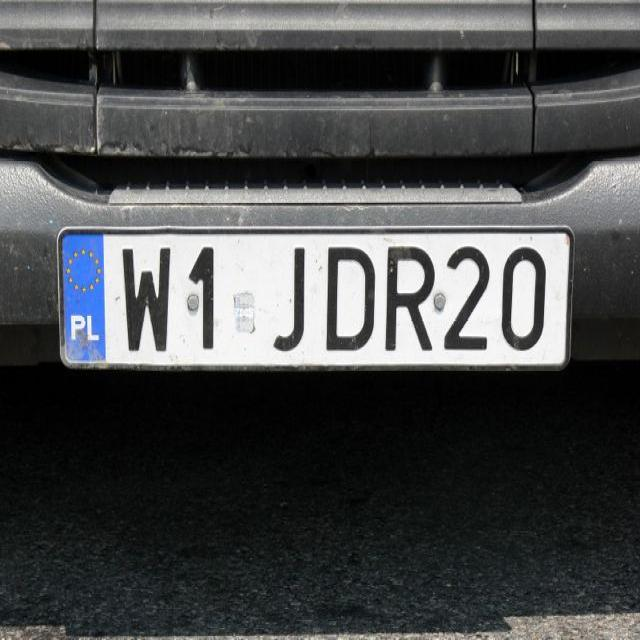pl_license_plate: (60, 230, 567, 364)
